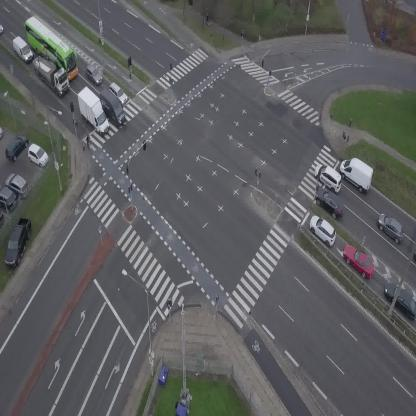bicycle: (202, 12, 211, 27), (84, 135, 93, 150)
bus: (15, 13, 88, 82)
car: (338, 239, 380, 282), (310, 184, 350, 222), (304, 211, 342, 248), (373, 210, 410, 245), (310, 160, 348, 194), (81, 62, 106, 87), (107, 80, 131, 106), (0, 23, 3, 34)
lorry: (21, 45, 77, 99), (72, 83, 112, 139), (333, 152, 380, 196), (93, 87, 133, 127), (8, 34, 37, 64), (413, 246, 416, 263)
